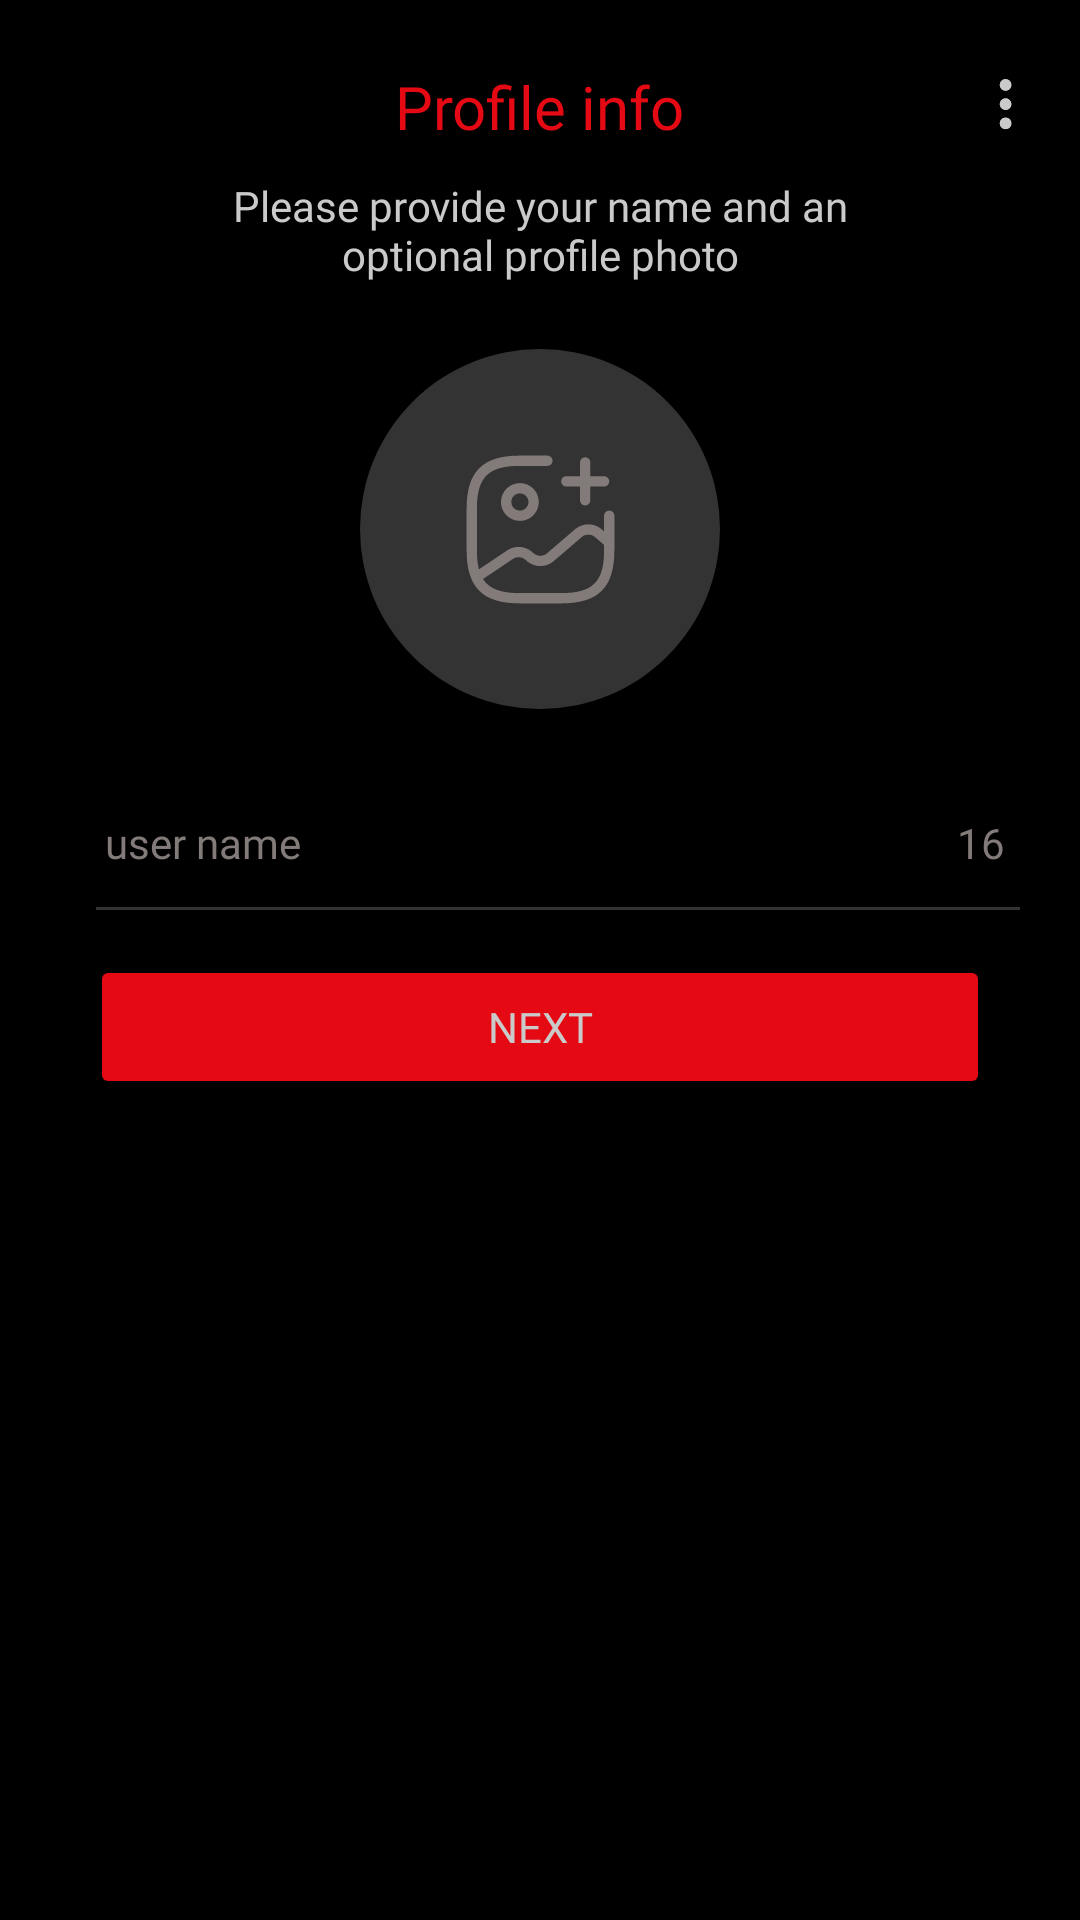

Locate icon controls on the screen. Image size 1080px×1920px, boxes as (x1, y1, x2, y2).
file menu: (999, 79, 1012, 130)
gallery: (466, 455, 615, 604)
